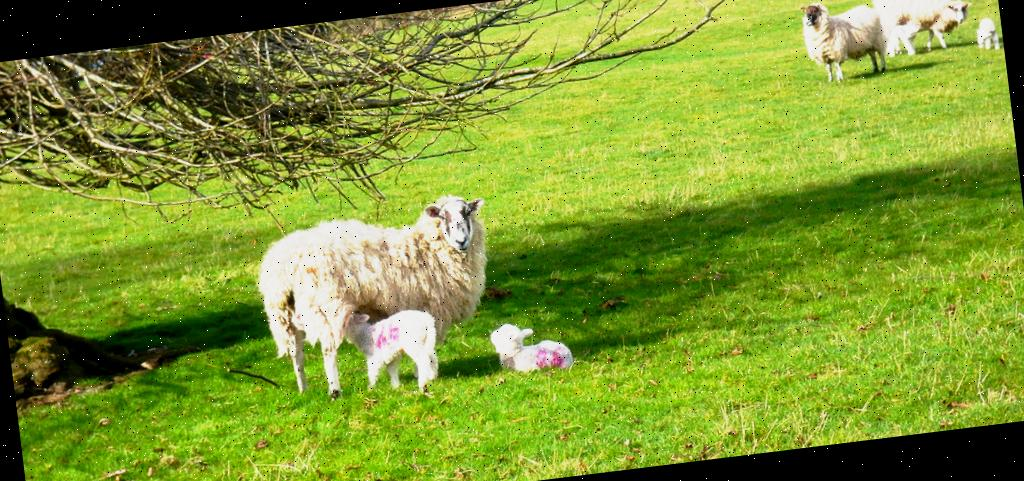Sheep: (248, 191, 504, 405), (348, 298, 444, 394), (794, 0, 893, 82), (869, 0, 978, 59), (484, 314, 574, 378), (888, 20, 926, 58), (974, 14, 1004, 50)
